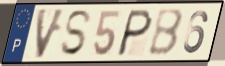5: (92, 8, 123, 58)
6: (183, 9, 210, 55)
B: (146, 8, 185, 58)
P: (114, 7, 155, 58)
S: (59, 9, 93, 58)
V: (34, 6, 68, 61)
